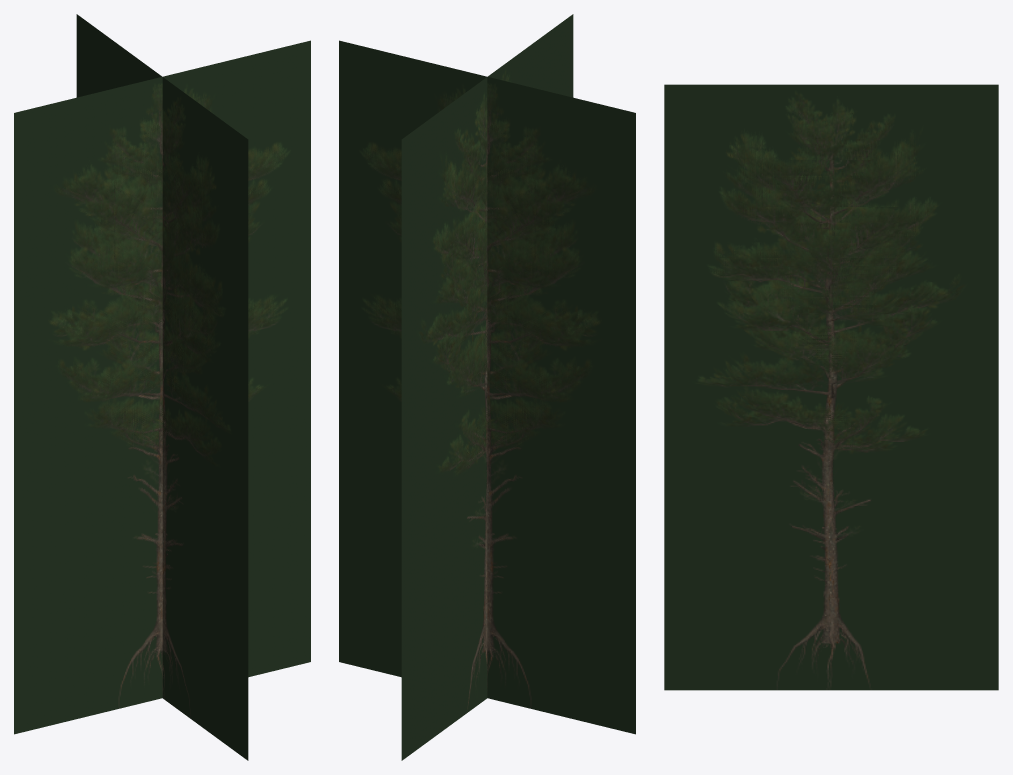
The model's file is Pine_02_LOD4.fbx.
3 views of the same model, side by side, from view 1: azimuth 30°, elevation 25°; view 2: azimuth 150°, elevation 25°; view 3: azimuth 270°, elevation 25° (orthographic). The views are drawn at different scales.
Parts seen in each view (by area): view 1: polySurface2933; view 2: polySurface2933; view 3: polySurface2933.
Part boxes in pixels (bbox=[...]): polySurface2933: bbox=[14, 14, 310, 760]; polySurface2933: bbox=[339, 14, 635, 760]; polySurface2933: bbox=[664, 84, 998, 690].
Size of the model in its own units: 1383 by 2766 by 1383.
